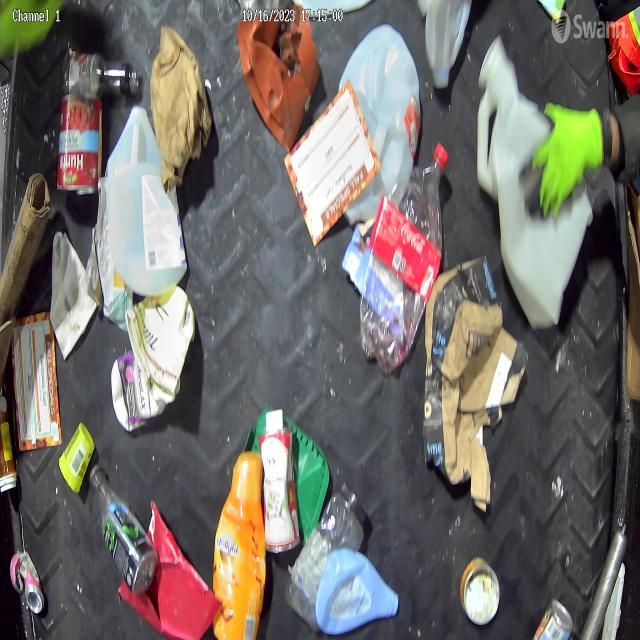can: (58, 92, 104, 204), (458, 552, 501, 630), (8, 548, 50, 615), (530, 593, 582, 640)
milk_jug: (336, 23, 424, 228), (110, 104, 188, 303)
plastic_bottle: (362, 144, 450, 367)
